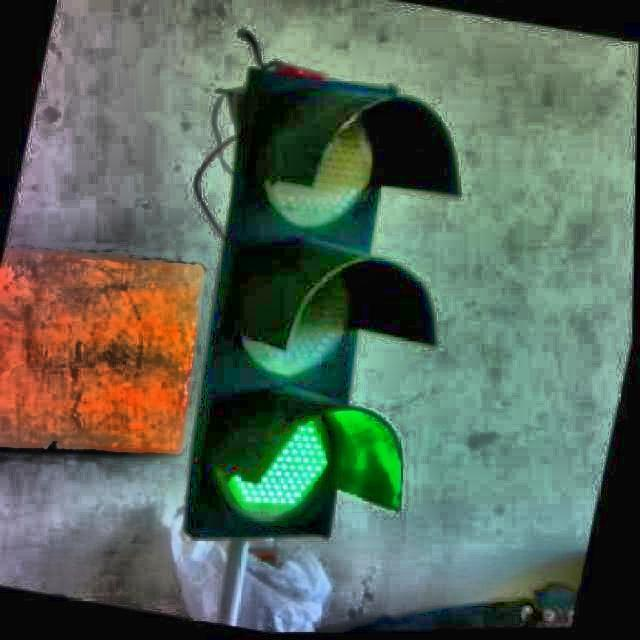green: (206, 73, 391, 545)
